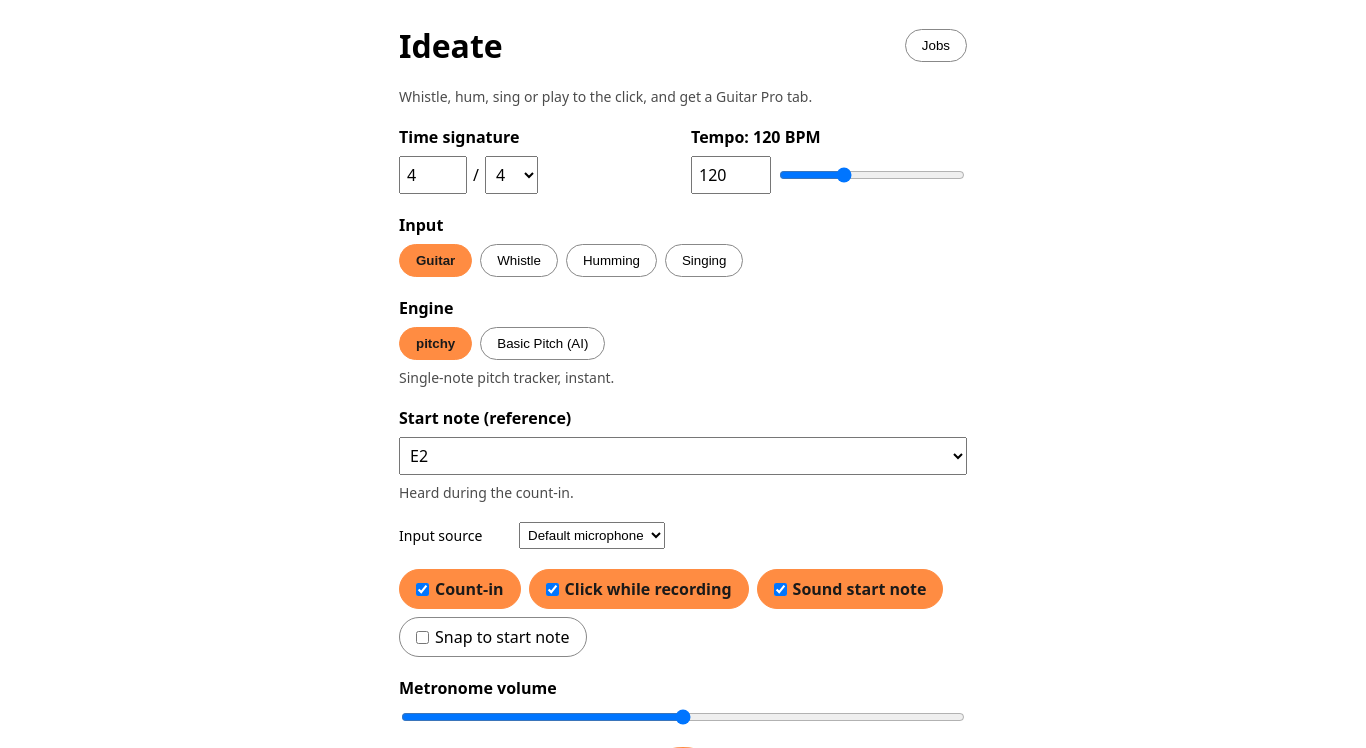
IdeateScreen › renders the recorder, settings and an empty job queue
Expected: the dropdown labelled "Input source" is shown, [519, 522, 665, 549]
Click the button "Jobs".
click(936, 46)  # box [905, 29, 967, 62]
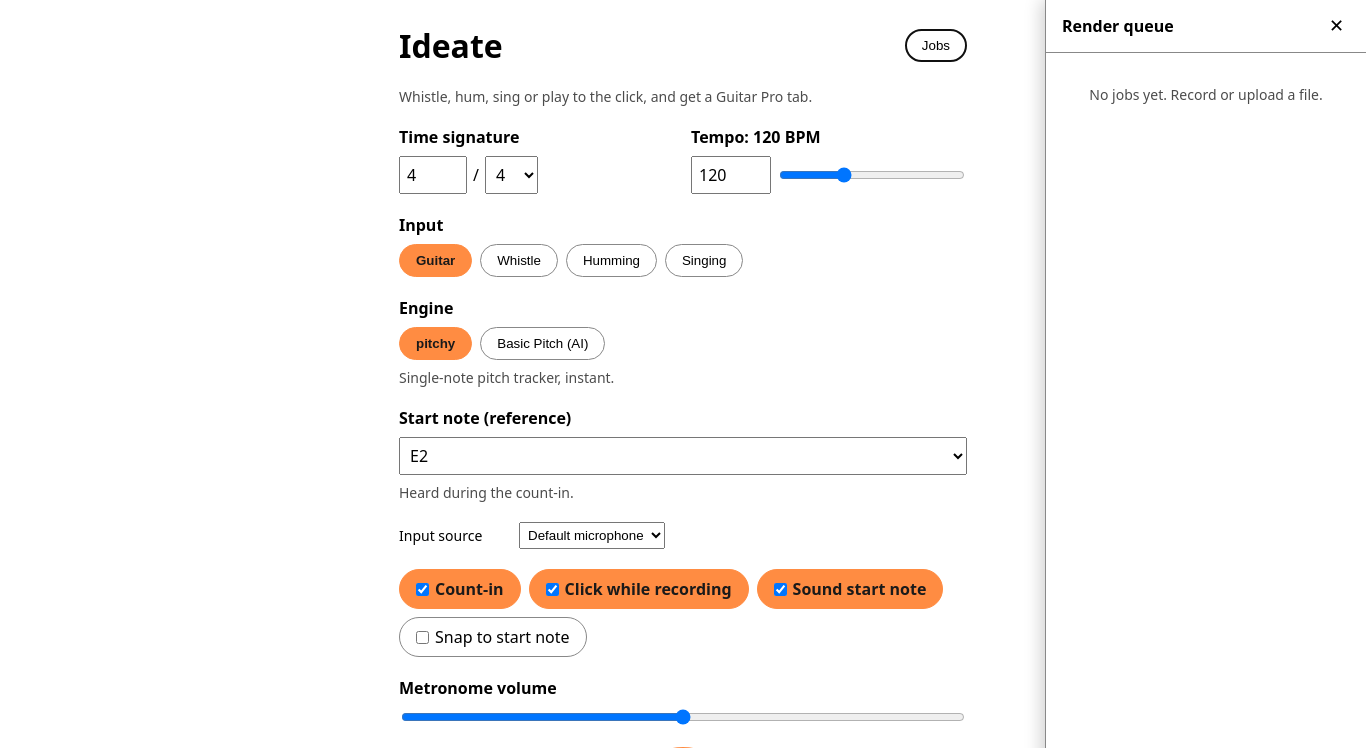
Result: the list item "No jobs yet. Record or upload a file." is shown at [1089, 85, 1323, 104]
